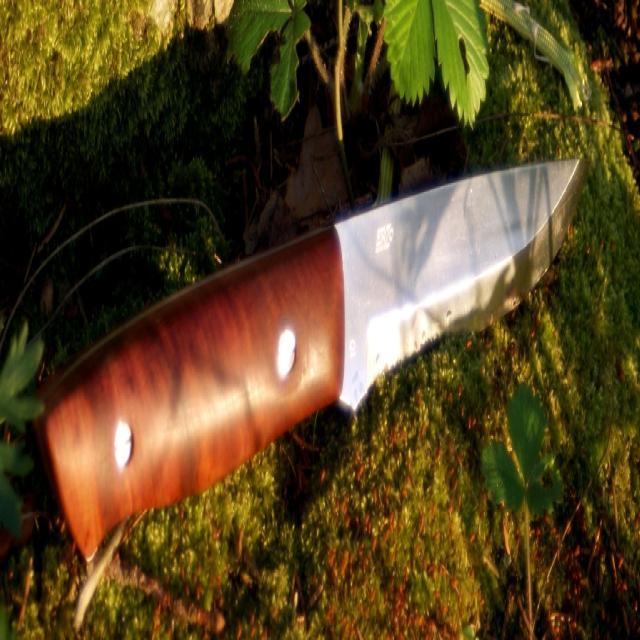Knife: (40, 160, 582, 558)
